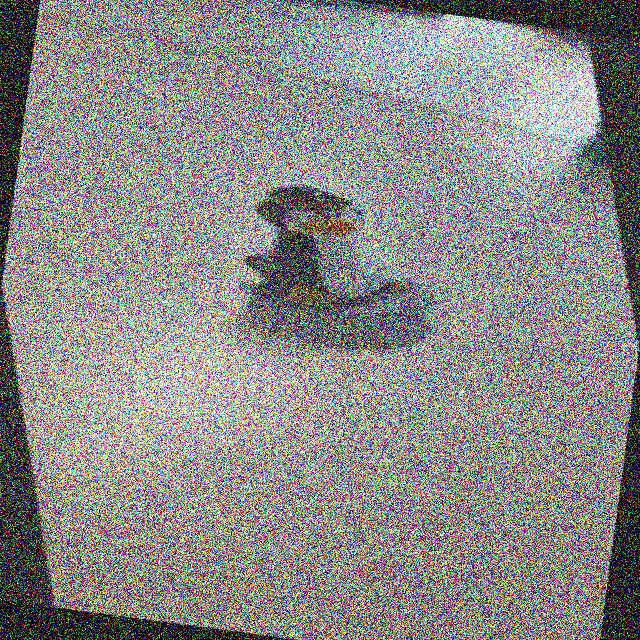Penguin: (185, 156, 465, 356)
